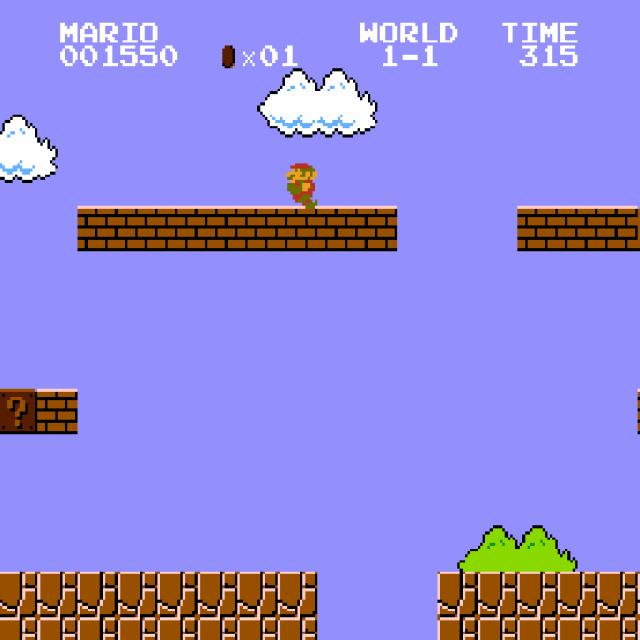brick_block: (37, 389, 78, 434), (77, 206, 118, 251), (117, 206, 158, 251), (157, 206, 198, 251), (197, 206, 238, 251), (237, 206, 278, 251), (277, 206, 318, 251), (317, 206, 358, 251), (357, 206, 398, 251), (517, 206, 558, 251), (557, 206, 598, 251), (597, 206, 638, 251), (637, 388, 640, 434)
little_mario: (277, 160, 320, 208)
mystery_block: (0, 389, 37, 434), (637, 205, 640, 251)
undestructible_block: (37, 572, 78, 617), (77, 572, 118, 617), (117, 572, 158, 617), (157, 572, 198, 617), (197, 572, 238, 617), (237, 572, 278, 617), (277, 572, 318, 617), (437, 572, 478, 617), (477, 572, 518, 617), (517, 572, 558, 617), (557, 572, 598, 617), (597, 572, 638, 617), (0, 572, 37, 617), (37, 617, 78, 640), (77, 617, 118, 640), (117, 617, 158, 640), (157, 617, 198, 640), (197, 617, 238, 640), (237, 617, 278, 640), (277, 617, 318, 640), (437, 617, 478, 640), (477, 617, 518, 640), (517, 617, 558, 640), (557, 617, 598, 640), (597, 617, 638, 640), (0, 617, 37, 640), (637, 571, 640, 617), (637, 617, 640, 639)
